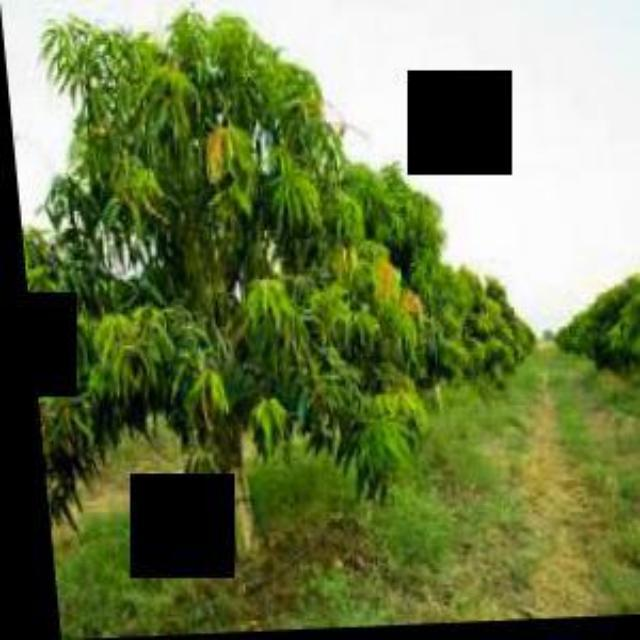tree: (4, 0, 458, 558), (392, 231, 540, 403)
